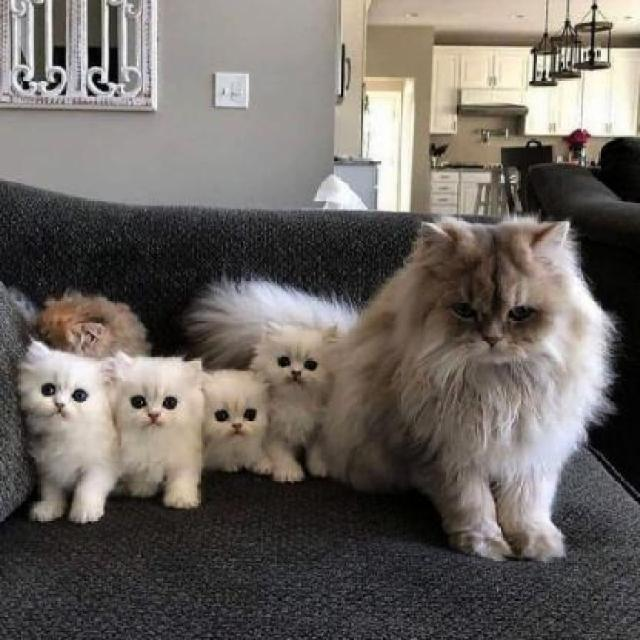cat: (345, 203, 610, 572), (10, 347, 107, 531), (104, 354, 213, 503), (264, 310, 330, 499), (191, 368, 275, 482)
